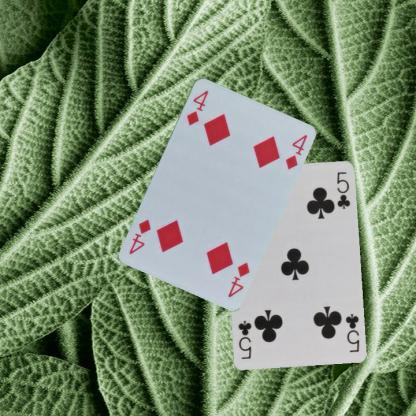4d: (225, 259, 251, 298), (184, 87, 209, 127)
5c: (342, 310, 361, 354)
